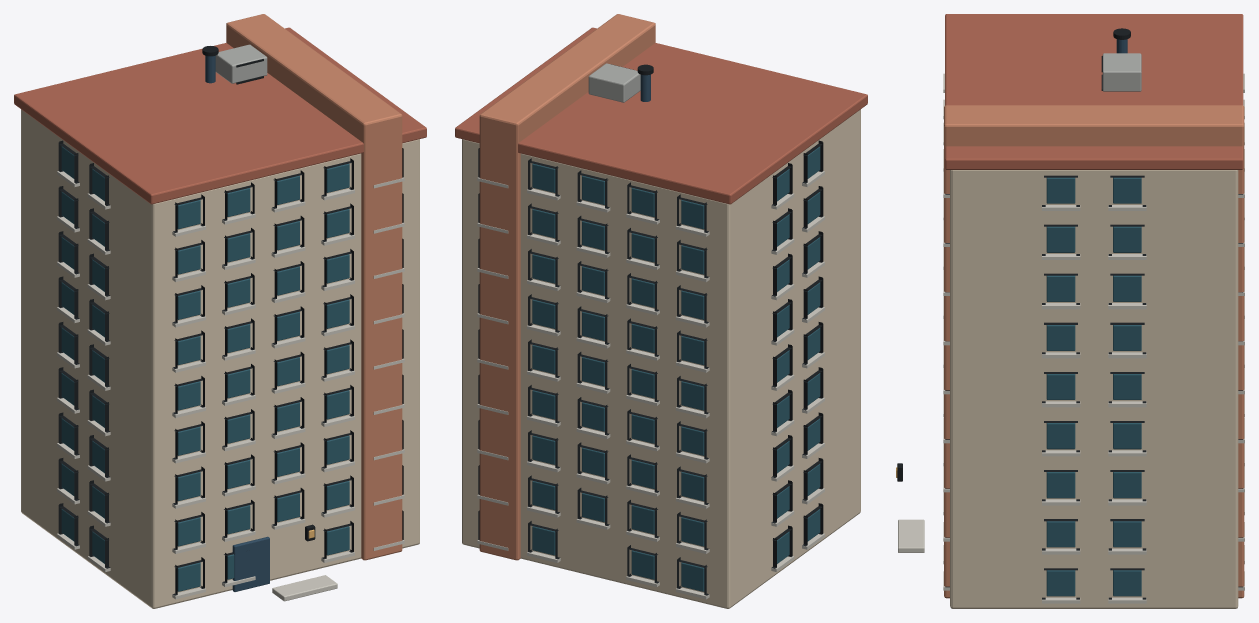
Rendered from RES_HIGH_2x2_001.glb.
3 renders of one model, left to right at view 1: azimuth 30°, elevation 25°; view 2: azimuth 150°, elevation 25°; view 3: azimuth 270°, elevation 25°, orthographic. The views are drawn at different scales.
Parts seen in each view (by area): view 1: RES_HIGH_2x2_001_Visual; view 2: RES_HIGH_2x2_001_Visual; view 3: RES_HIGH_2x2_001_Visual.
Boxes of the visible parts, left/top/right/bottom form: RES_HIGH_2x2_001_Visual: left=14, top=14, right=426, bottom=608; RES_HIGH_2x2_001_Visual: left=455, top=14, right=867, bottom=608; RES_HIGH_2x2_001_Visual: left=896, top=14, right=1244, bottom=608.
Size of what is drawn, in the model's own units: 3.41 by 5.49 by 3.42.
